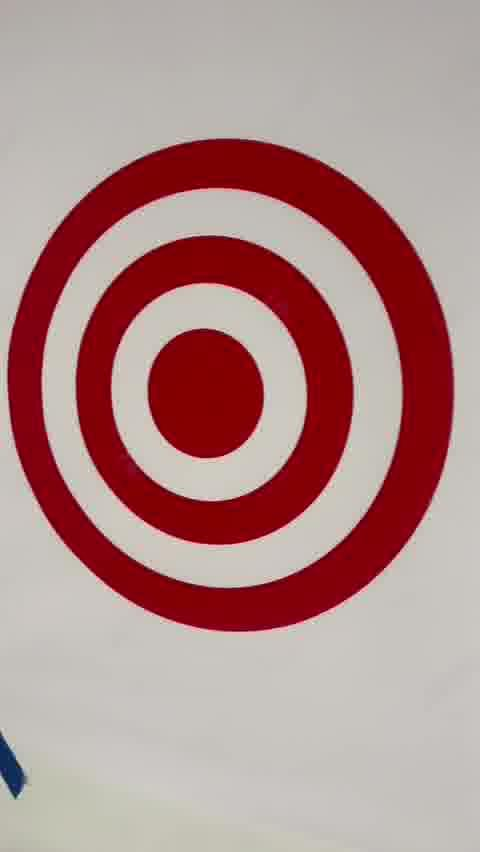target_red: (8, 135, 452, 633)
